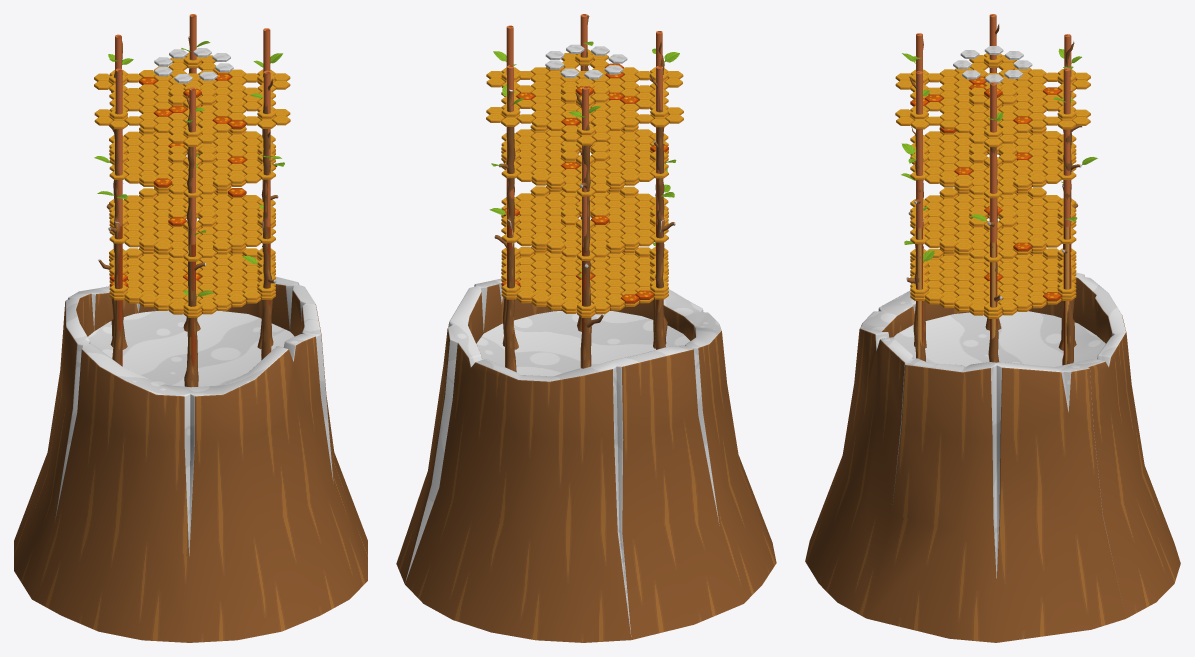
The picture shows the model from 3 angles, left to right: view 1: azimuth 30°, elevation 25°; view 2: azimuth 150°, elevation 25°; view 3: azimuth 270°, elevation 25°; orthographic projection.
Visible parts, largest first — view 1: Level8Visuals, Cylinder (3), Cylinder (2), Cylinder; view 2: Level8Visuals, Cylinder (1), Cylinder (5), Cylinder (3); view 3: Level8Visuals, Cylinder (5), Cylinder, Cylinder (4).
Boxes of the visible parts, x1,y1,x2,y2 form: Level8Visuals: [14, 36, 367, 642]; Cylinder (3): [115, 68, 122, 366]; Cylinder (2): [189, 87, 195, 366]; Cylinder: [263, 70, 270, 353]; Level8Visuals: [396, 15, 776, 642]; Cylinder (1): [582, 86, 588, 334]; Cylinder (5): [507, 65, 513, 333]; Cylinder (3): [656, 66, 662, 349]; Level8Visuals: [805, 24, 1180, 642]; Cylinder (5): [1063, 68, 1070, 364]; Cylinder: [916, 71, 922, 358]; Cylinder (4): [990, 82, 996, 339].
Bounding box in the file's own units: 37.32 × 57.13 × 37.69.
13 materials, 13 textured.
